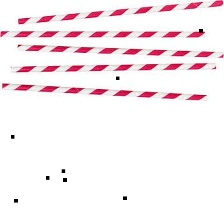drinking_straw: (0, 78, 212, 105), (13, 0, 224, 27)
